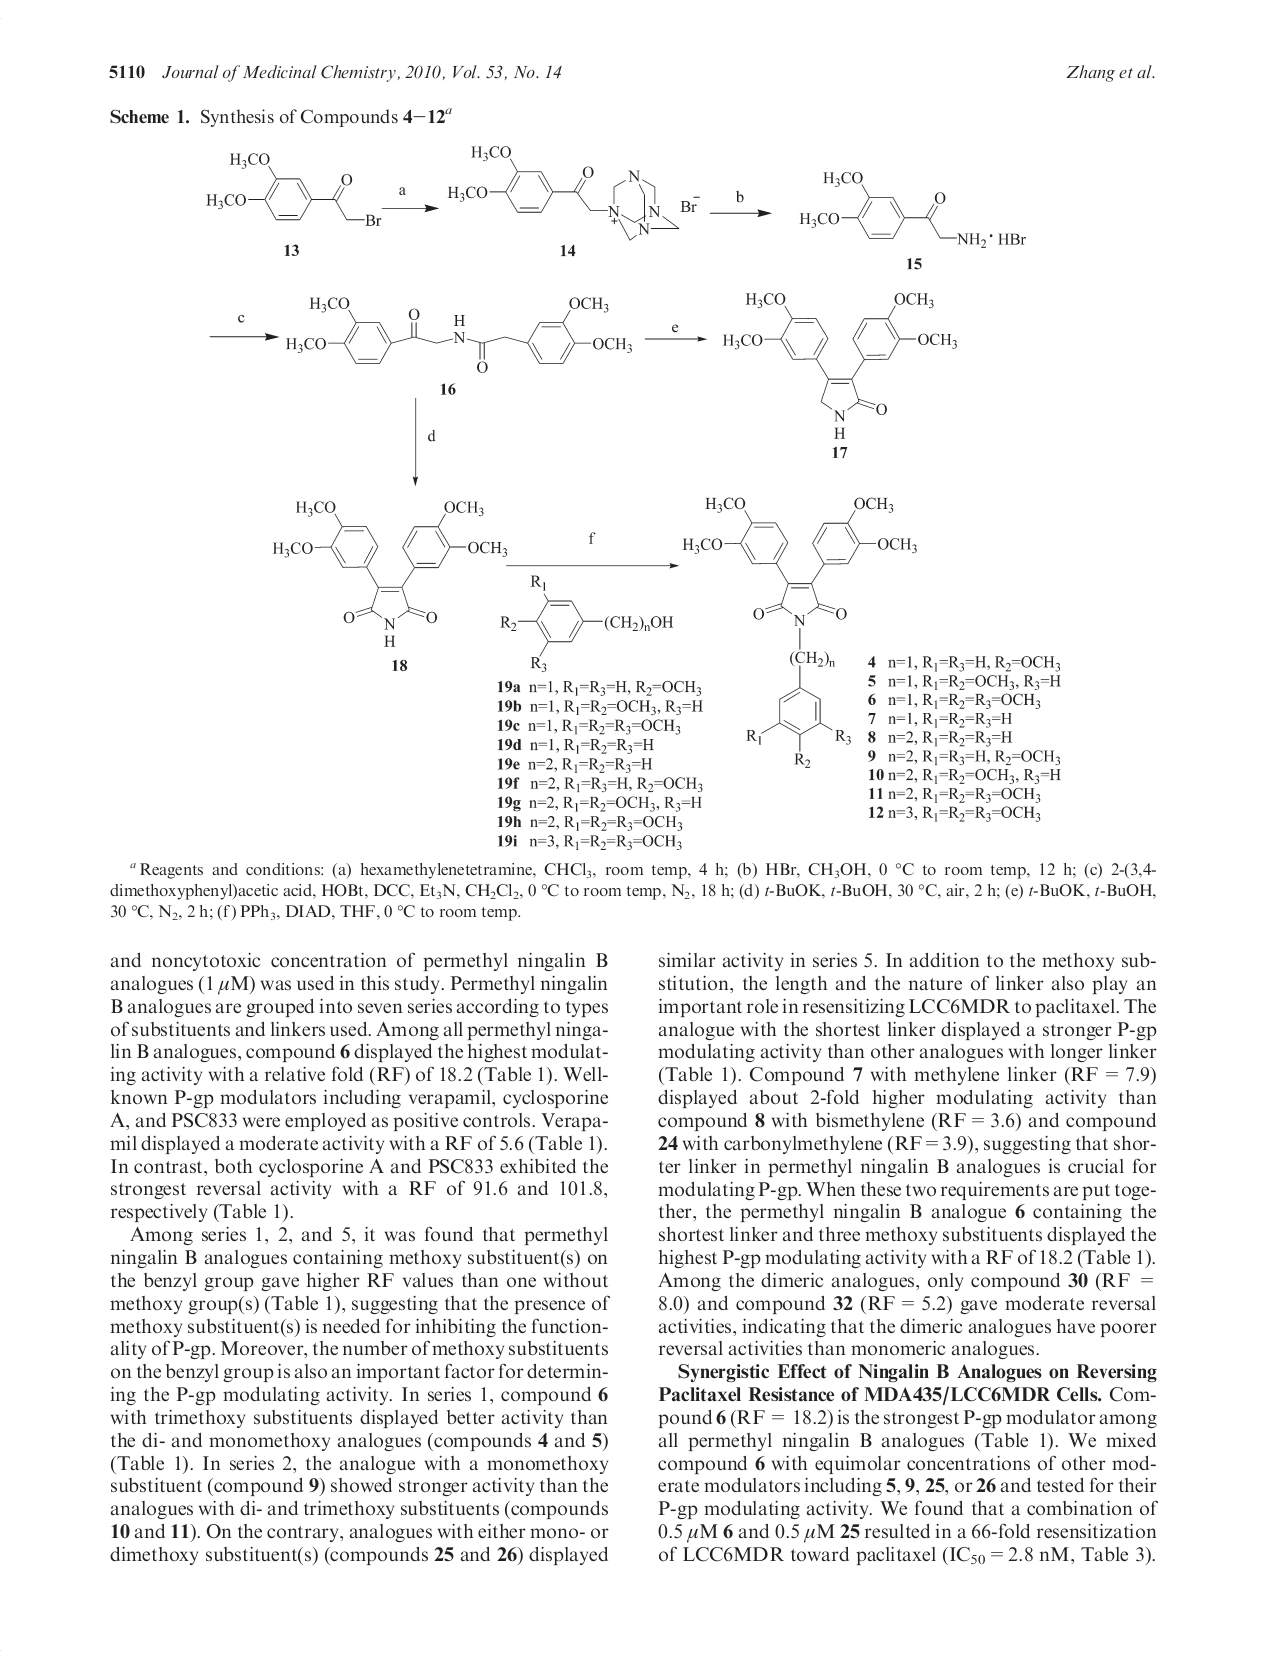exist_molecular: (680, 483, 920, 771), (719, 286, 961, 440), (270, 495, 512, 648), (286, 286, 636, 376), (442, 141, 703, 241), (795, 164, 1032, 251), (500, 571, 682, 678), (199, 146, 387, 234)
